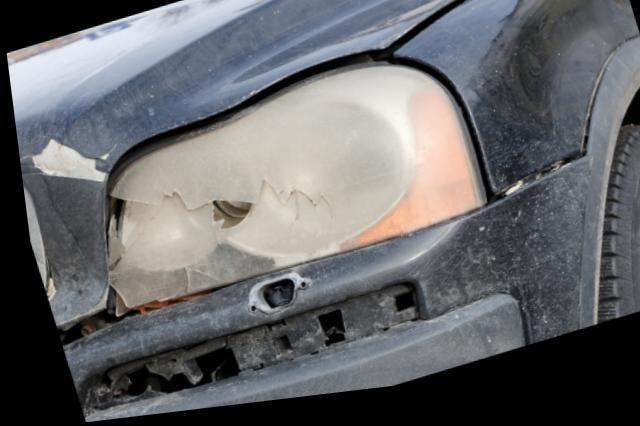lamp broken: (101, 69, 479, 318)
